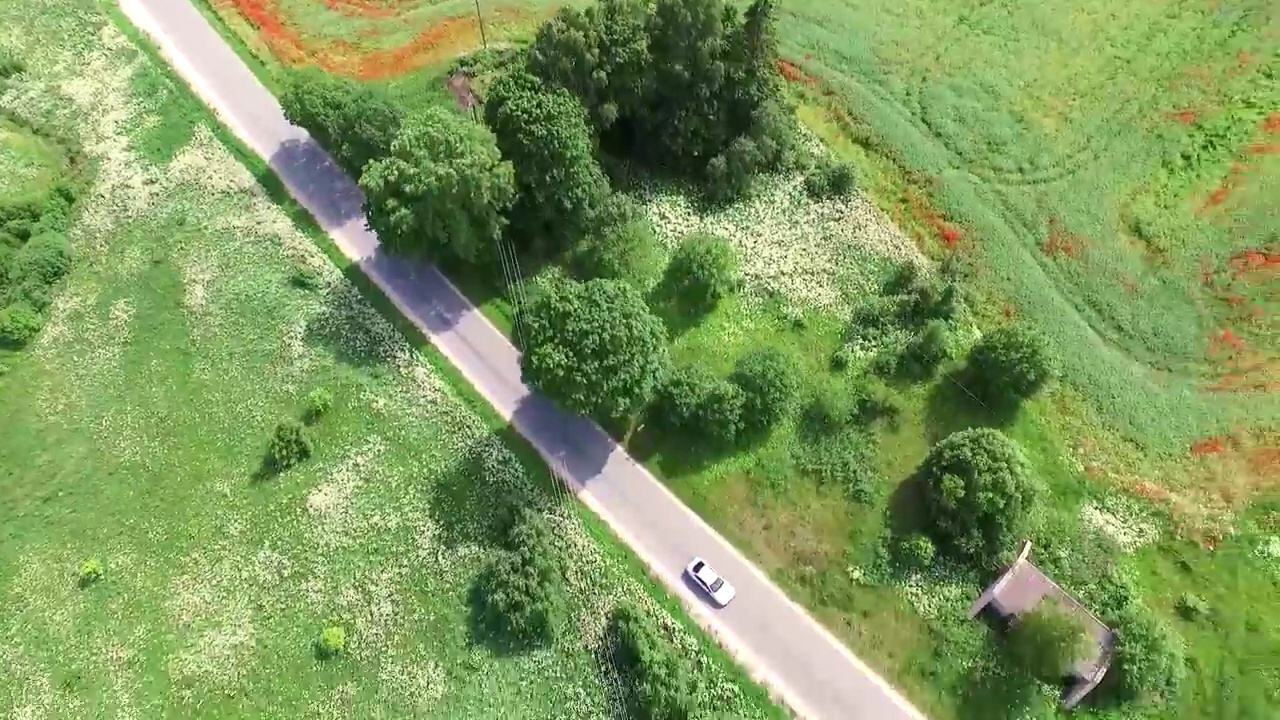araba: (683, 555, 738, 609)
